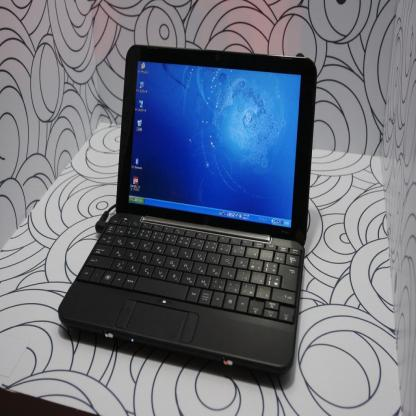board: (57, 43, 317, 378)
